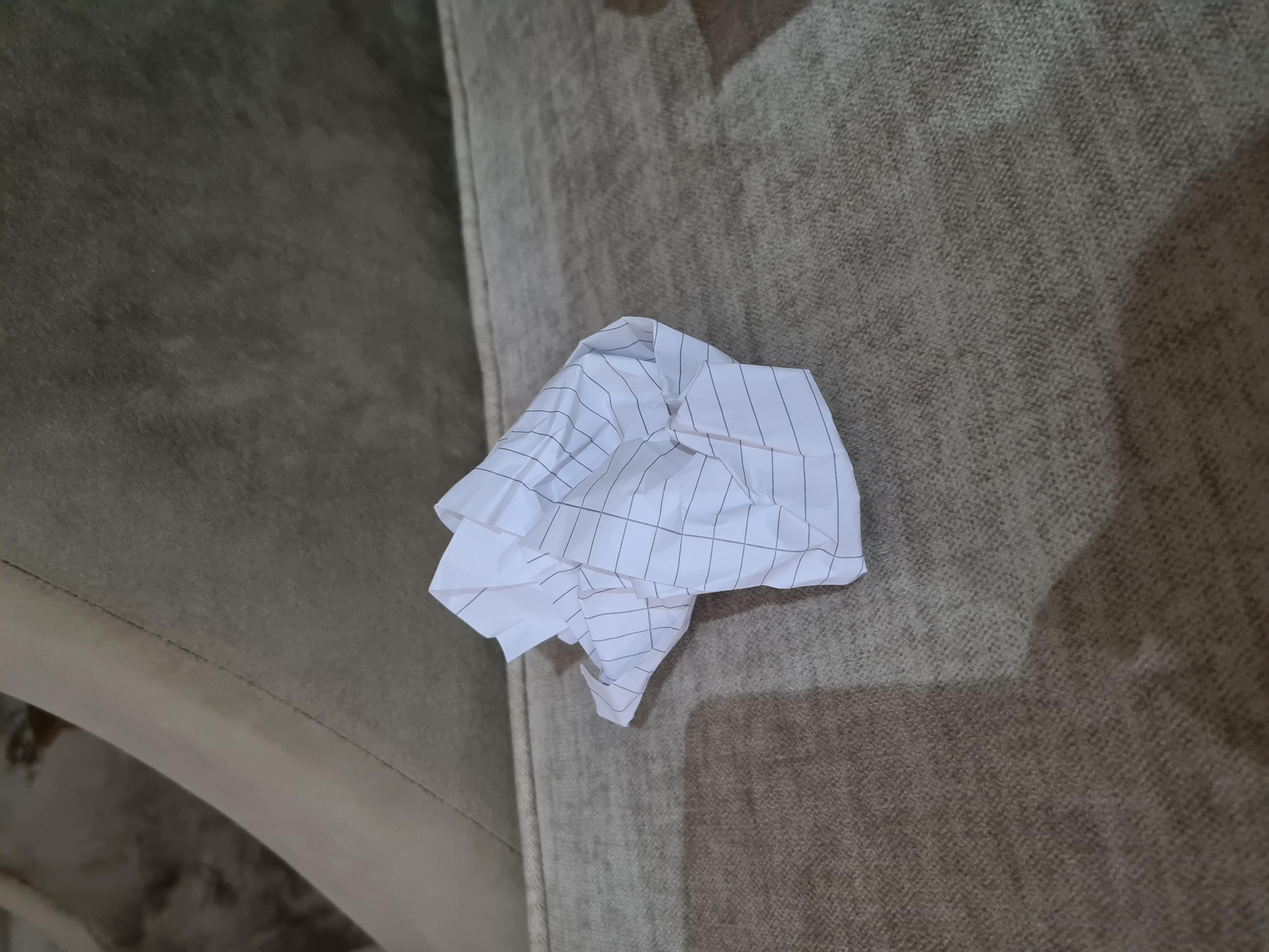paper: (303, 333, 849, 648)
